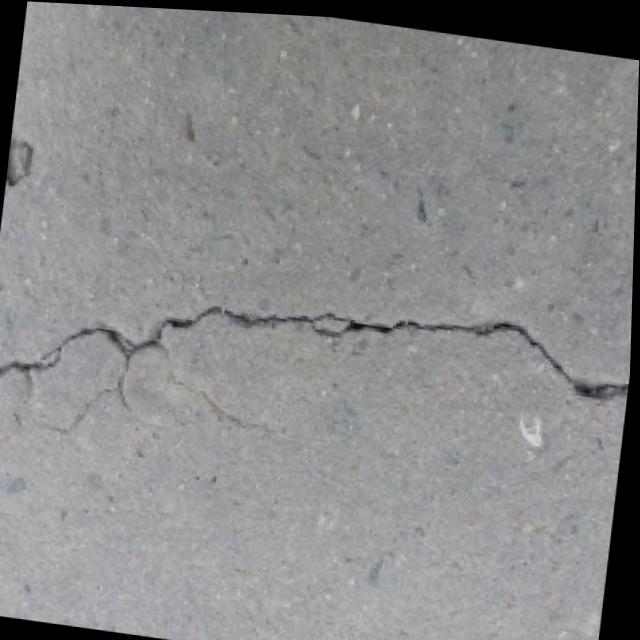Crack: (0, 226, 635, 505)
